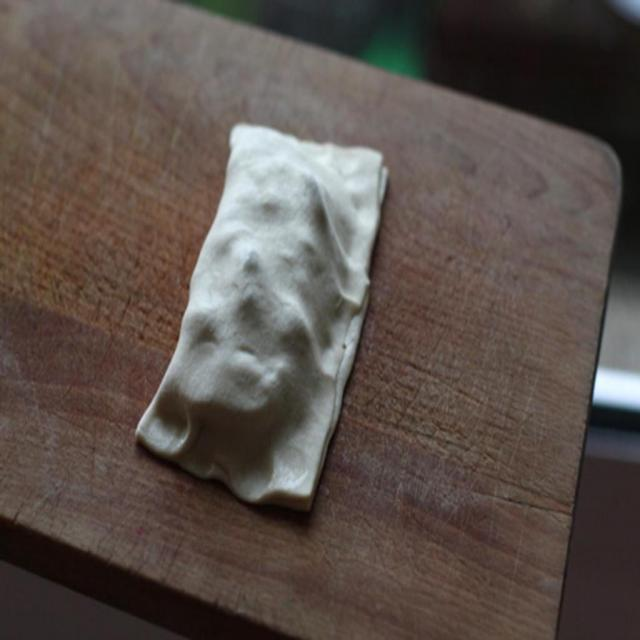table: (112, 28, 529, 632)
